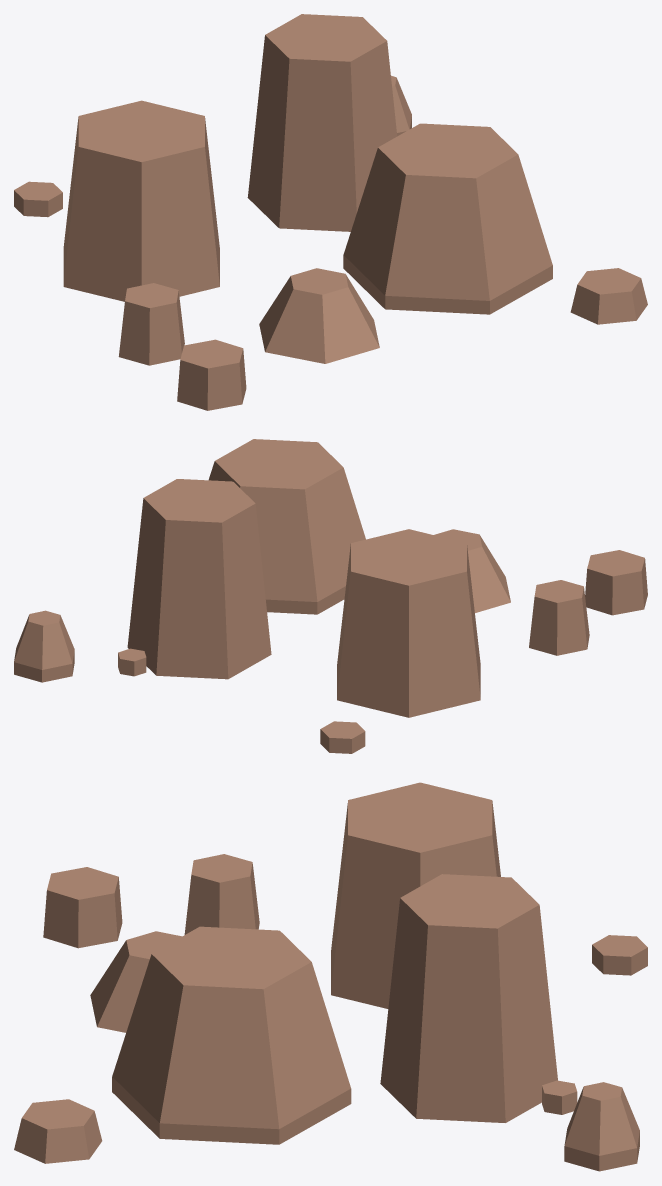
The model's file is szikla_akadaly.glb.
3 views of the same model, one above another, from view 1: azimuth 30°, elevation 25°; view 2: azimuth 150°, elevation 25°; view 3: azimuth 270°, elevation 25° (orthographic). The views are drawn at different scales.
Visible parts, largest first — view 1: Mesh_Mesh_head_geo.001_lambert2SG.001; view 2: Mesh_Mesh_head_geo.001_lambert2SG.001; view 3: Mesh_Mesh_head_geo.001_lambert2SG.001.
Part boxes in pixels (x1,y1,x2,y2): Mesh_Mesh_head_geo.001_lambert2SG.001: (14,14,647,410); Mesh_Mesh_head_geo.001_lambert2SG.001: (14,439,647,753); Mesh_Mesh_head_geo.001_lambert2SG.001: (14,782,647,1171).
Bounding box in the file's own units: 0.1761 × 0.0612 × 0.1844.
